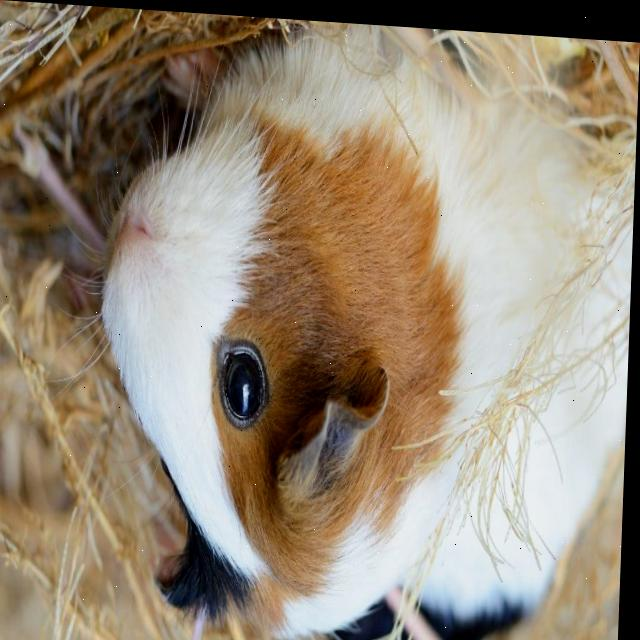guinea pig: (95, 9, 640, 640)
